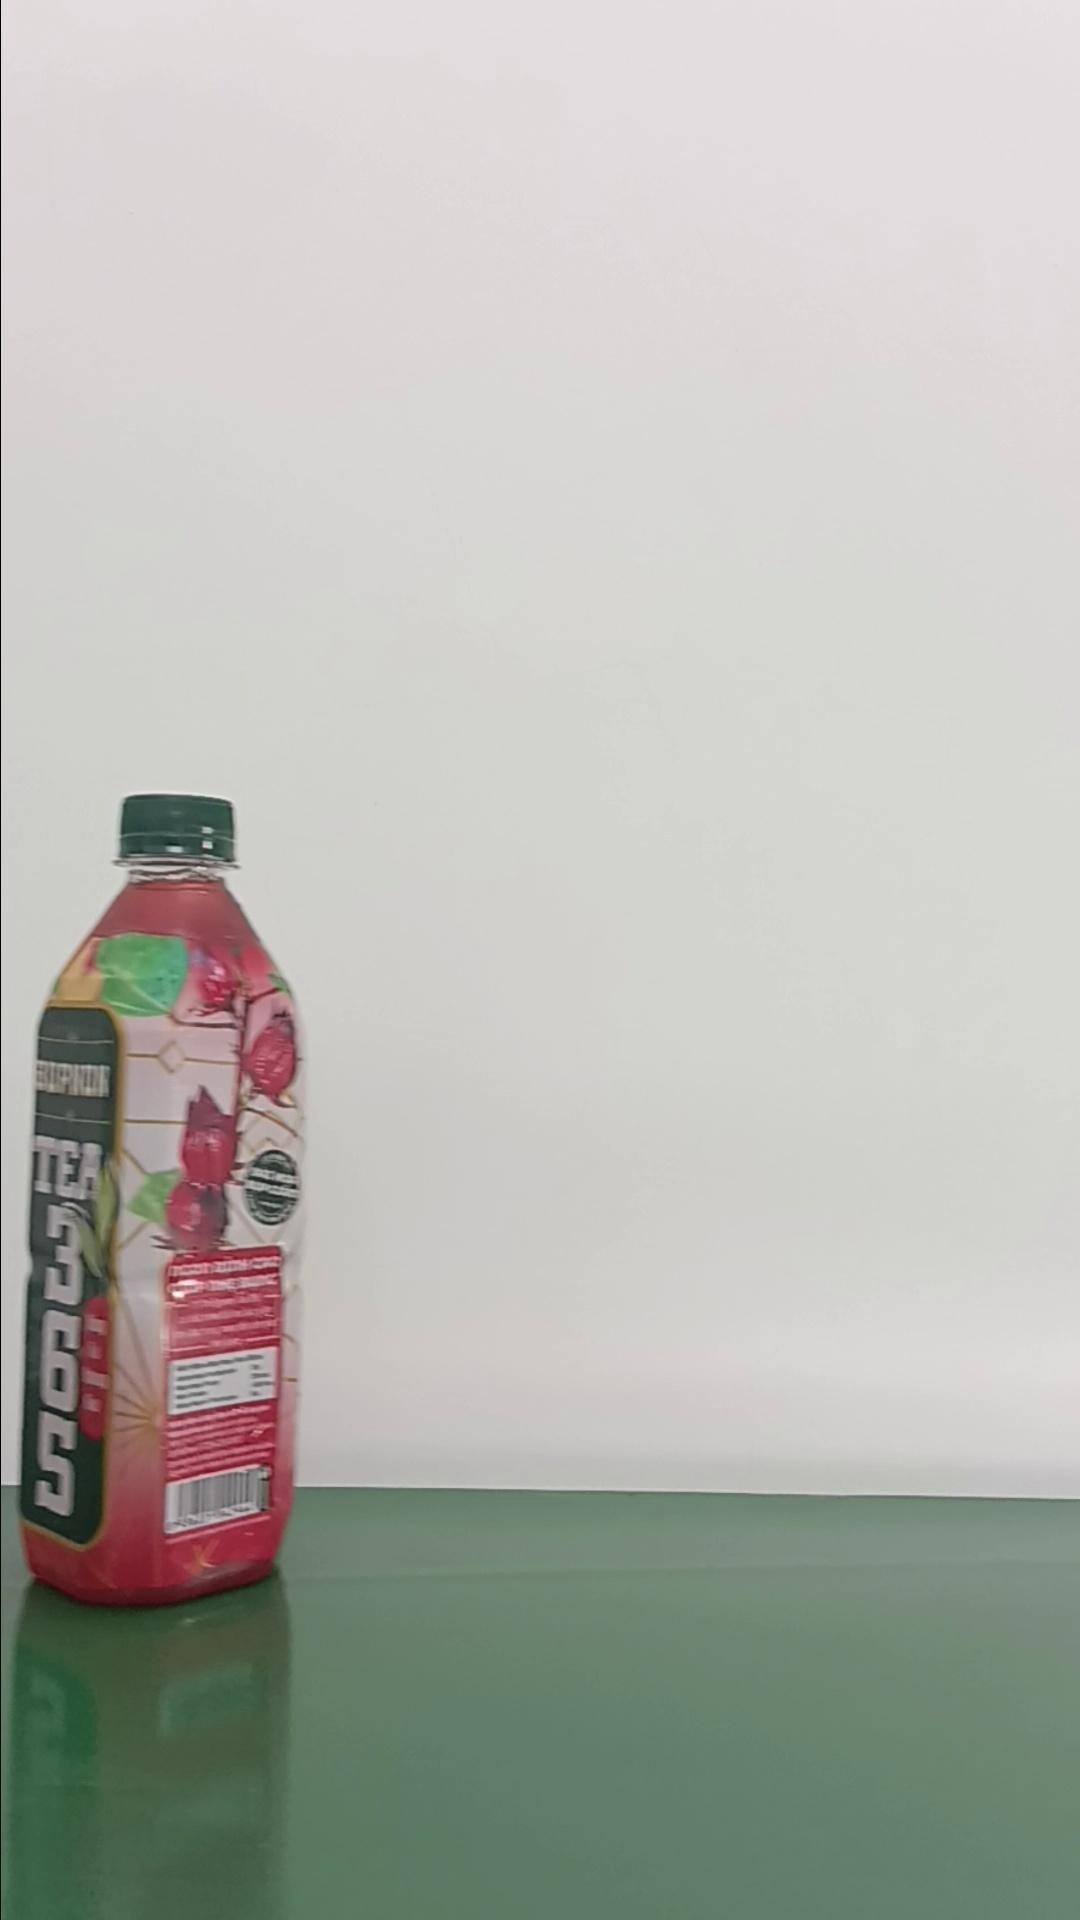khong loi: (17, 790, 309, 1607)
